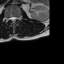CCS_normal: (12, 15, 14, 24)
LFS_normal: (17, 15, 19, 21)
LLS_normal: (14, 15, 17, 22)
RFS_normal: (7, 15, 9, 22)
RLS_normal: (9, 15, 12, 22)
